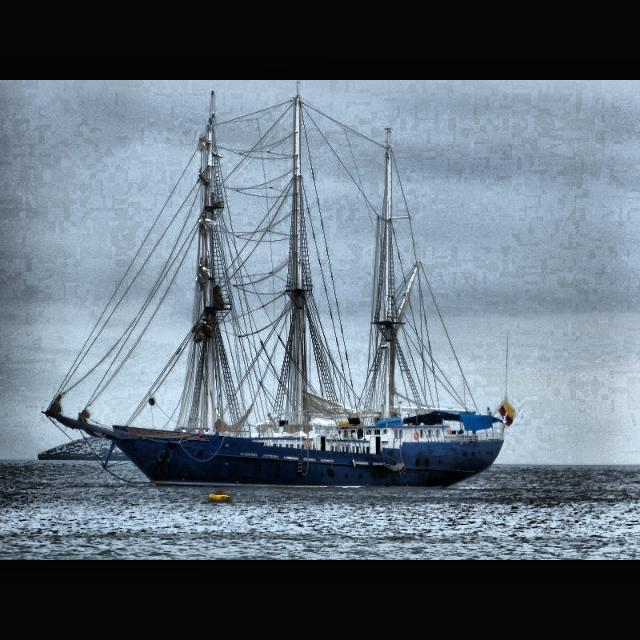sailing_vessel: (40, 90, 506, 490)
